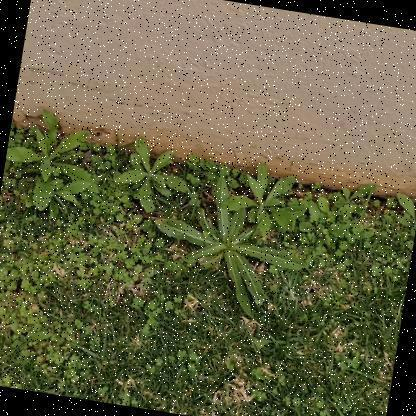Weeds: (143, 165, 317, 324), (0, 102, 114, 220), (219, 156, 305, 245), (109, 133, 195, 218), (388, 189, 415, 246)
